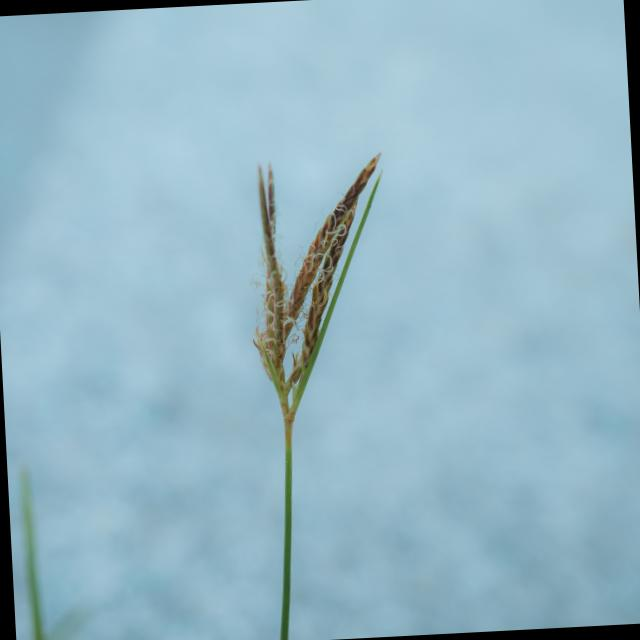cyperus: (212, 144, 410, 413)
